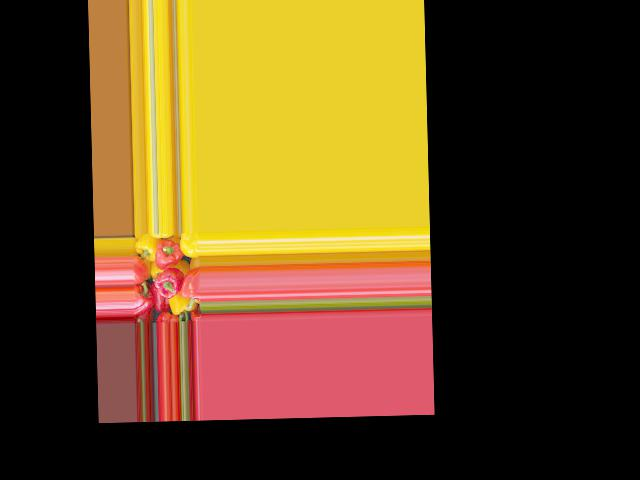bell_pepper: (137, 233, 159, 259)
